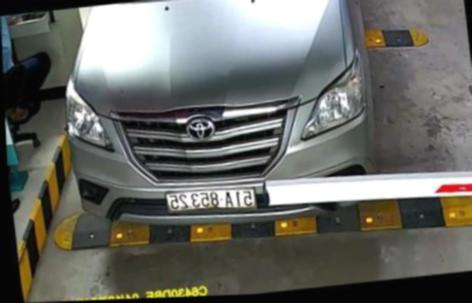License_Plate: (165, 182, 257, 219)
